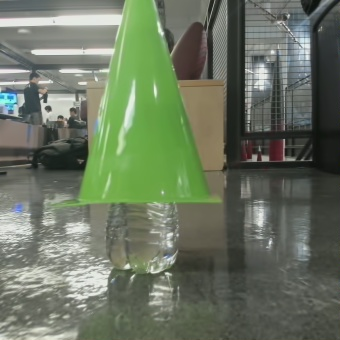Cone: (73, 2, 213, 195)
